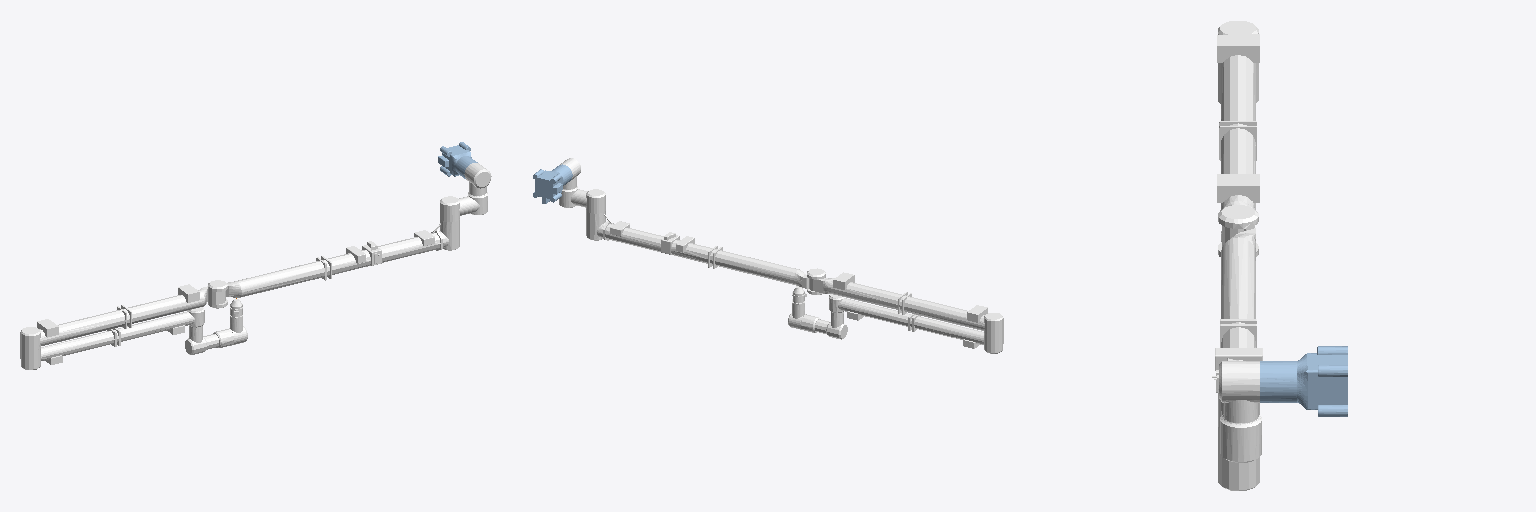
The robot description file, URDF, robot "bean2":
<?xml version="1.0" encoding="utf-8"?>
<!-- This URDF was automatically created by SolidWorks to URDF Exporter! Originally created by Stephen Brawner (brawner@gmail.com) 
     Commit Version: 1.6.0-4-g7f85cfe  Build Version: 1.6.7995.38578
     For more information, please see http://wiki.ros.org/sw_urdf_exporter -->
<robot name="bean2">
  <!-- adding fixed frame link for gazebo -->
  <link name="world"/>

<!-- Virtual Joint to fix robot to ISS -->
  <joint name="fixedFrameToWorld" type="fixed">
    <parent link="world"/>
    <child link="bean_base_link"/>
    <origin rpy="1.57 1.57 0.0" xyz="90.1 -1.95 -36.0"/>
  </joint>
  
  <!-- Basic Extraterrestrial Articulated maNipulator2 (BEAN2) is defined-->
  <link
    name="bean_base_link">
    <inertial>
      <origin
        xyz="0.0076403 -0.0077316 0.30748"
        rpy="0 0 0" />
      <mass
        value="140.69" />
      <inertia
        ixx="8.9233"
        ixy="-0.0083106"
        ixz="0.19212"
        iyy="8.9454"
        iyz="-0.18789"
        izz="5.5009" />
    </inertial>
    <visual>
      <origin
        xyz="0 0 0"
        rpy="0 0 0" />
      <geometry>
        <mesh
          filename="package://bean3_description/meshes/base_link.STL" />
      </geometry>
      <material
        name="">
        <color
          rgba="0.706 0.82 0.929 1" />
      </material>
    </visual>
    <collision>
      <origin
        xyz="0 0 0"
        rpy="0 0 0" />
      <geometry>
        <mesh
          filename="package://bean3_description/meshes/base_link.STL" />
      </geometry>
    </collision>
  </link>
  <link
    name="link_one">
    <inertial>
      <origin
        xyz="0.23706 0.42192 0.17122"
        rpy="0 0 0" />
      <mass
        value="264.21" />
      <inertia
        ixx="32.206"
        ixy="-15.566"
        ixz="-2.4455"
        iyy="31.567"
        iyz="-3.4761"
        izz="53.733" />
    </inertial>
    <visual>
      <origin
        xyz="0 0 0"
        rpy="0 0 0" />
      <geometry>
        <mesh
          filename="package://bean3_description/meshes/link_one.STL" />
      </geometry>
      <material
        name="">
        <color
          rgba="1 1 1 1" />
      </material>
    </visual>
    <collision>
      <origin
        xyz="0 0 0"
        rpy="0 0 0" />
      <geometry>
        <mesh
          filename="package://bean3_description/meshes/link_one.STL" />
      </geometry>
    </collision>
  </link>
  <joint
    name="joint_one"
    type="revolute">
    <origin
      xyz="0 0 0.875"
      rpy="0 0 -1.5708" />
    <parent
      link="bean_base_link" />
    <child
      link="link_one" />
    <axis
      xyz="0 0 1" />
    <limit
      lower="-3.14"
      upper="3.14"
      effort="1300"
      velocity="0.3" />
    <dynamics
      damping="0.2"
      friction="0.2" />
  </joint>
  <link
    name="link_two">
    <inertial>
      <origin
        xyz="-2.4928 -0.0010823 0.17636"
        rpy="0 0 0" />
      <mass
        value="615.5" />
      <inertia
        ixx="12.815"
        ixy="-2.9324"
        ixz="10.247"
        iyy="1781.1"
        iyz="0.022231"
        izz="1779.4" />
    </inertial>
    <visual>
      <origin
        xyz="0 0 0"
        rpy="0 0 0" />
      <geometry>
        <mesh
          filename="package://bean3_description/meshes/link_two.STL" />
      </geometry>
      <material
        name="">
        <color
          rgba="1 1 1 1" />
      </material>
    </visual>
    <collision>
      <origin
        xyz="0 0 0"
        rpy="0 0 0" />
      <geometry>
        <mesh
          filename="package://bean3_description/meshes/link_two.STL" />
      </geometry>
    </collision>
  </link>
  <joint
    name="joint_two"
    type="revolute">
    <origin
      xyz="0.67 1.035 0.21"
      rpy="1.5708 0 -3.1416" />
    <parent
      link="link_one" />
    <child
      link="link_two" />
    <axis
      xyz="0 0 1" />
    <limit
      lower="-3.14"
      upper="3.14"
      effort="1300"
      velocity="0.2" />
    <dynamics
      damping="0.2"
      friction="0.2" />
  </joint>
  <link
    name="link_three">
    <inertial>
      <origin
        xyz="2.2935 0.0014154 -0.018803"
        rpy="0 0 0" />
      <mass
        value="468.03" />
      <inertia
        ixx="9.0711"
        ixy="1.3435"
        ixz="5.0617"
        iyy="837.4"
        iyz="-0.01244"
        izz="836.79" />
    </inertial>
    <visual>
      <origin
        xyz="0 0 0"
        rpy="0 0 0" />
      <geometry>
        <mesh
          filename="package://bean3_description/meshes/link_three.STL" />
      </geometry>
      <material
        name="">
        <color
          rgba="1 1 1 1" />
      </material>
    </visual>
    <collision>
      <origin
        xyz="0 0 0"
        rpy="0 0 0" />
      <geometry>
        <mesh
          filename="package://bean3_description/meshes/link_three.STL" />
      </geometry>
    </collision>
  </link>
  <joint
    name="joint_three"
    type="revolute">
    <origin
      xyz="-5.46 0 0.1875"
      rpy="0 0 3.1416" />
    <parent
      link="link_two" />
    <child
      link="link_three" />
    <axis
      xyz="0 0 -1" />
    <limit
      lower="-1.4"
      upper="2.44"
      effort="1000"
      velocity="0.2" />
    <dynamics
      damping="0.2"
      friction="0.2" />
  </joint>
  <link
    name="link_four">
    <inertial>
      <origin
        xyz="2.1783 7.8425E-07 -0.10837"
        rpy="0 0 0" />
      <mass
        value="443.02" />
      <inertia
        ixx="35.29"
        ixy="-0.00010298"
        ixz="113.09"
        iyy="1111.3"
        iyz="1.5385E-05"
        izz="1082" />
    </inertial>
    <visual>
      <origin
        xyz="0 0 0"
        rpy="0 0 0" />
      <geometry>
        <mesh
          filename="package://bean3_description/meshes/link_four.STL" />
      </geometry>
      <material
        name="">
        <color
          rgba="1 1 1 1" />
      </material>
    </visual>
    <collision>
      <origin
        xyz="0 0 0"
        rpy="0 0 0" />
      <geometry>
        <mesh
          filename="package://bean3_description/meshes/link_four.STL" />
      </geometry>
    </collision>
  </link>
  <joint
    name="joint_four"
    type="revolute">
    <origin
      xyz="4.4 0 0.375"
      rpy="3.1416 0 3.1416" />
    <parent
      link="link_three" />
    <child
      link="link_four" />
    <axis
      xyz="0 0 -1" />
    <limit
      lower="-3.14"
      upper="3.14"
      effort="1000"
      velocity="0.2" />
    <dynamics
      damping="0.2"
      friction="0.2" />
  </joint>
  <link
    name="link_five">
    <inertial>
      <origin
        xyz="-1.2323E-07 0.10322 0.047186"
        rpy="0 0 0" />
      <mass
        value="65.693" />
      <inertia
        ixx="3.2326"
        ixy="2.9354E-06"
        ixz="-1.8121E-06"
        iyy="1.62"
        iyz="0.31997"
        izz="2.4339" />
    </inertial>
    <visual>
      <origin
        xyz="0 0 0"
        rpy="0 0 0" />
      <geometry>
        <mesh
          filename="package://bean3_description/meshes/link_five.STL" />
      </geometry>
      <material
        name="">
        <color
          rgba="1 1 1 1" />
      </material>
    </visual>
    <collision>
      <origin
        xyz="0 0 0"
        rpy="0 0 0" />
      <geometry>
        <mesh
          filename="package://bean3_description/meshes/link_five.STL" />
      </geometry>
    </collision>
  </link>
  <joint
    name="joint_five"
    type="revolute">
    <origin
      xyz="4.835 0 -0.65"
      rpy="1.5708 0 -1.5708" />
    <parent
      link="link_four" />
    <child
      link="link_five" />
    <axis
      xyz="0 0 1" />
    <limit
      lower="-6.28"
      upper="6.28"
      effort="500"
      velocity="0.5" />
    <dynamics
      damping="0.1"
      friction="0.1" />
  </joint>
  <link
    name="link_six">
    <inertial>
      <origin
        xyz="-0.0031191 -0.0018008 -0.12806"
        rpy="0 0 0" />
      <mass
        value="13.062" />
      <inertia
        ixx="0.12452"
        ixy="-0.0028533"
        ixz="0.0017542"
        iyy="0.12781"
        iyz="0.0010128"
        izz="0.10261" />
    </inertial>
    <visual>
      <origin
        xyz="0 0 0"
        rpy="0 0 0" />
      <geometry>
        <mesh
          filename="package://bean3_description/meshes/link_six.STL" />
      </geometry>
      <material
        name="">
        <color
          rgba="1 1 1 1" />
      </material>
    </visual>
    <collision>
      <origin
        xyz="0 0 0"
        rpy="0 0 0" />
      <geometry>
        <mesh
          filename="package://bean3_description/meshes/link_six.STL" />
      </geometry>
    </collision>
  </link>
  <joint
    name="joint_six"
    type="revolute">
    <origin
      xyz="0 0.5 0"
      rpy="-1.5708 0 3.1416" />
    <parent
      link="link_five" />
    <child
      link="link_six" />
    <axis
      xyz="0 0 -1" />
    <limit
      lower="-6.28"
      upper="6.28"
      effort="500"
      velocity="0.8" />
    <dynamics
      damping="0.1"
      friction="0.1" />
  </joint>
  <!-- virtual end effector joint for capsule sim task -->
  <link name="docking_frame">
    <visual>
    <origin xyz="0.0 0.0 0.0" rpy="0.0 0.0 0.0"/>
    <geometry>
      <sphere radius="0.005"/>
    </geometry>
    <material name="orange">
      <color rgba="1.0 0.5 0.0 1.0"/>
    </material>
  </visual>
  <collision>
    <origin xyz="0.0 0.0 0.0" rpy="0.0 0.0 0.0"/>
    <geometry>
      <sphere radius="0.005"/>
    </geometry>
  </collision>
  <inertial>
    <origin xyz="0.0 0.0 0.0" rpy="0.0 0.0 0.0"/>
    <mass value="0.001"/>
    <inertia ixx="1e-9" ixy="0.0" ixz="0.0"
             iyy="1e-9" iyz="0.0"
             izz="1e-9"/>
  </inertial>
</link>
  <joint name="docking_joint" type="fixed">
	  <parent link="link_six"/>
	  <child link="docking_frame"/>
	  <origin xyz="0.0 0.0 -0.333" rpy ="0.0 0.0 0.0"/>
  </joint>
  <gazebo reference="docking_joint">
	  <preserveFixedJoint>true</preserveFixedJoint>
  </gazebo>
</robot>

--- Render facts (derived) ---
The picture shows the robot from 3 angles, left to right: view 1: azimuth 30°, elevation 25°; view 2: azimuth 150°, elevation 25°; view 3: azimuth 270°, elevation 25°; orthographic projection.
Robot: bean2 — 9 links, 8 joints (6 revolute, 2 fixed); root link world; default pose: all joints at 0.
Links seen in each view (by area): view 1: link_two, link_three, link_four, link_one, bean_base_link; view 2: link_two, link_three, link_four, link_one, bean_base_link; view 3: link_three, link_two, bean_base_link, link_one.
Link boxes in pixels (x1,y1,x2,y2): link_two: (208,220,459,308); link_three: (20,284,225,352); link_four: (20,307,233,369); link_one: (440,163,491,221); bean_base_link: (438,142,477,178); link_two: (586,210,825,294); link_three: (809,272,1003,336); link_four: (801,294,1003,353); link_one: (559,158,605,213); bean_base_link: (533,164,572,203); link_three: (1217,21,1259,246); link_two: (1212,205,1262,490); bean_base_link: (1260,346,1347,416); link_one: (1218,361,1261,462).
Size in the robot's own frame: 11.02 by 1.35 by 2.71 metres.
7 mesh visuals loaded from 7 distinct referenced files (7 binary STL).
